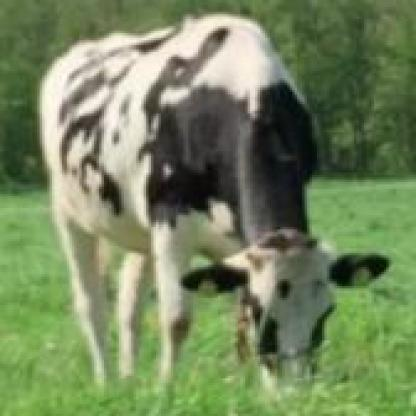cow: (44, 18, 388, 394)
